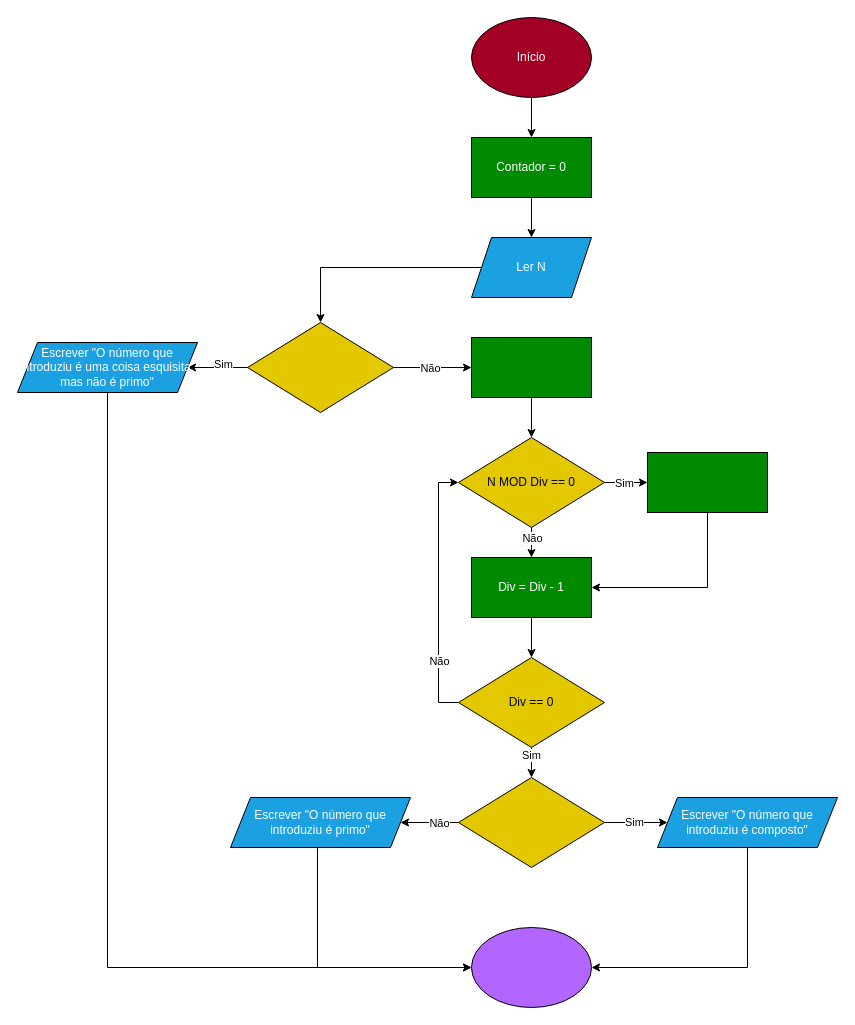
This 855x1025 diagram has some shape labels left out. Here are the shapes that lost their labels. From the top down, the centre of each, then its label:
the point at 320,367: N == 0 OU N == 1
the point at 531,367: Div = N
the point at 707,482: Contador = Contador + 1
the point at 531,822: Contador > 2
the point at 531,967: Fim
